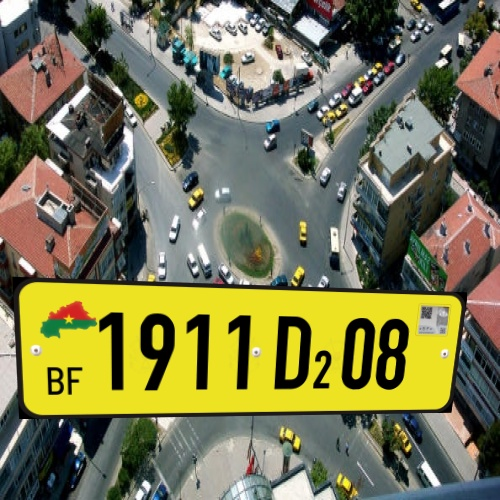plate: (9, 261, 475, 440)
